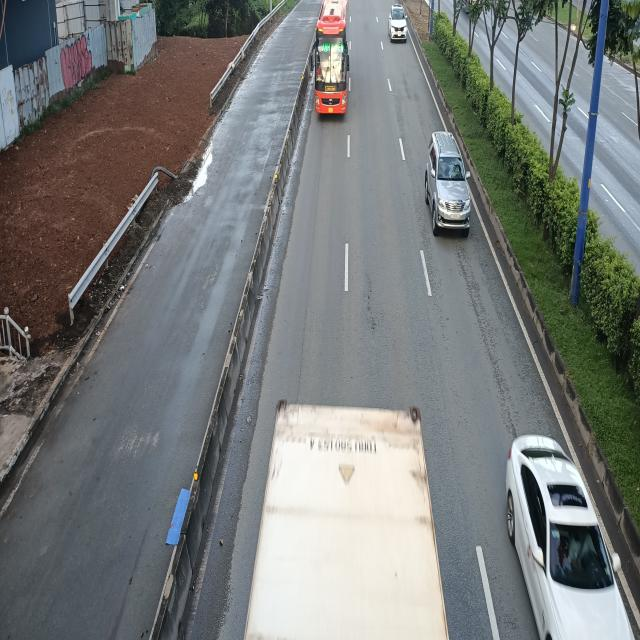car: (506, 435, 632, 637), (424, 132, 470, 238), (388, 6, 407, 44)
coach: (314, 0, 352, 114)
